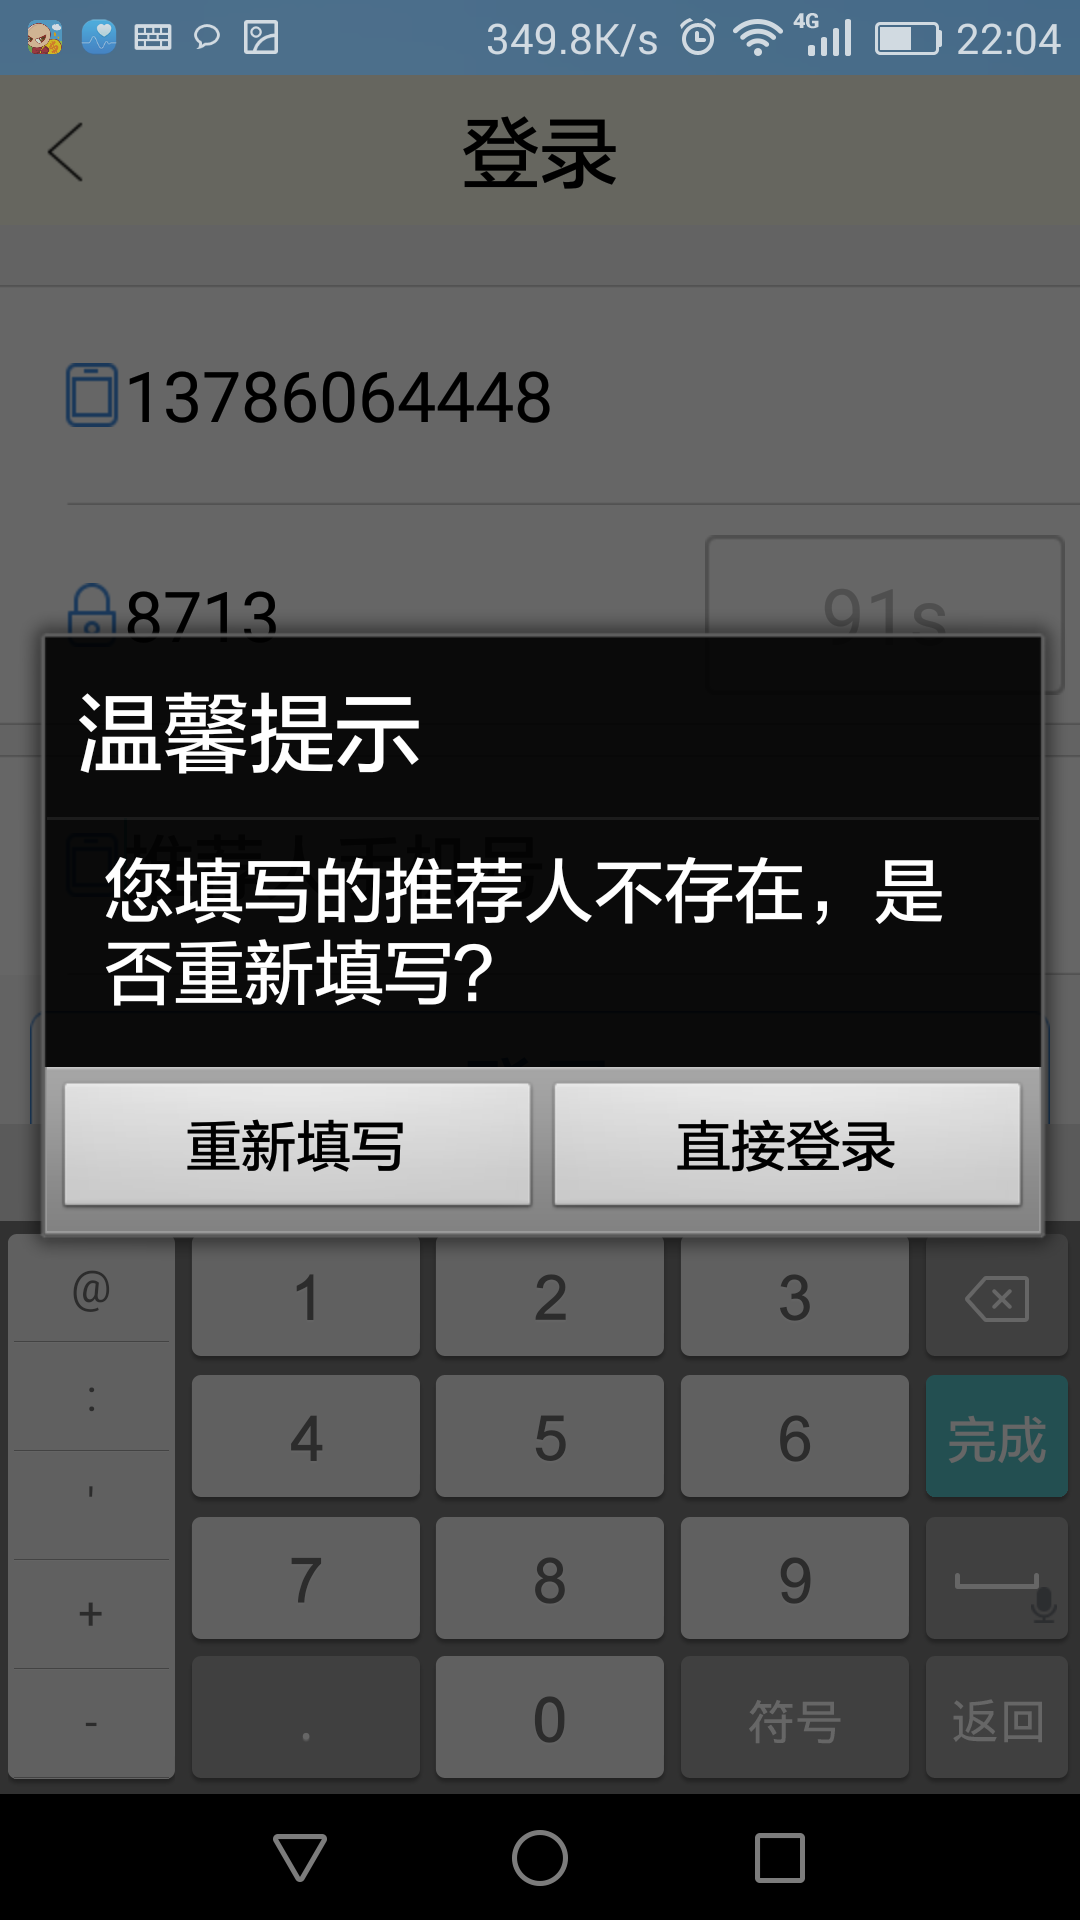alert: (37, 626, 1054, 1245)
button: (541, 1076, 1036, 1229), (53, 1072, 545, 1225)
textview: (75, 839, 967, 1035), (73, 673, 433, 794)
